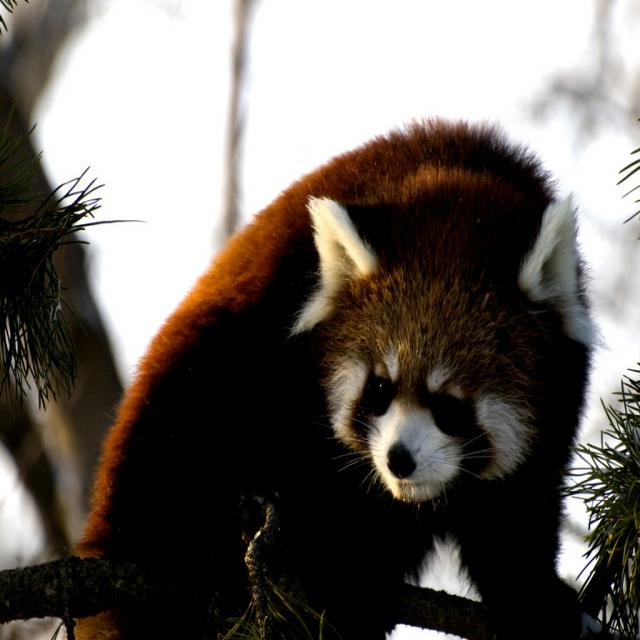Bear: (56, 110, 615, 640)
